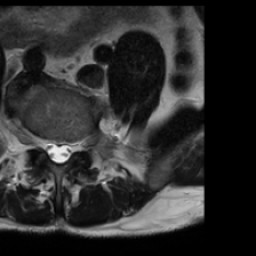CCS_normal: (53, 131, 62, 171)
LFS_normal: (71, 130, 82, 159)
LLS_normal: (62, 131, 71, 169)
RFS_normal: (35, 126, 44, 157)
RLS_normal: (44, 128, 53, 166)
